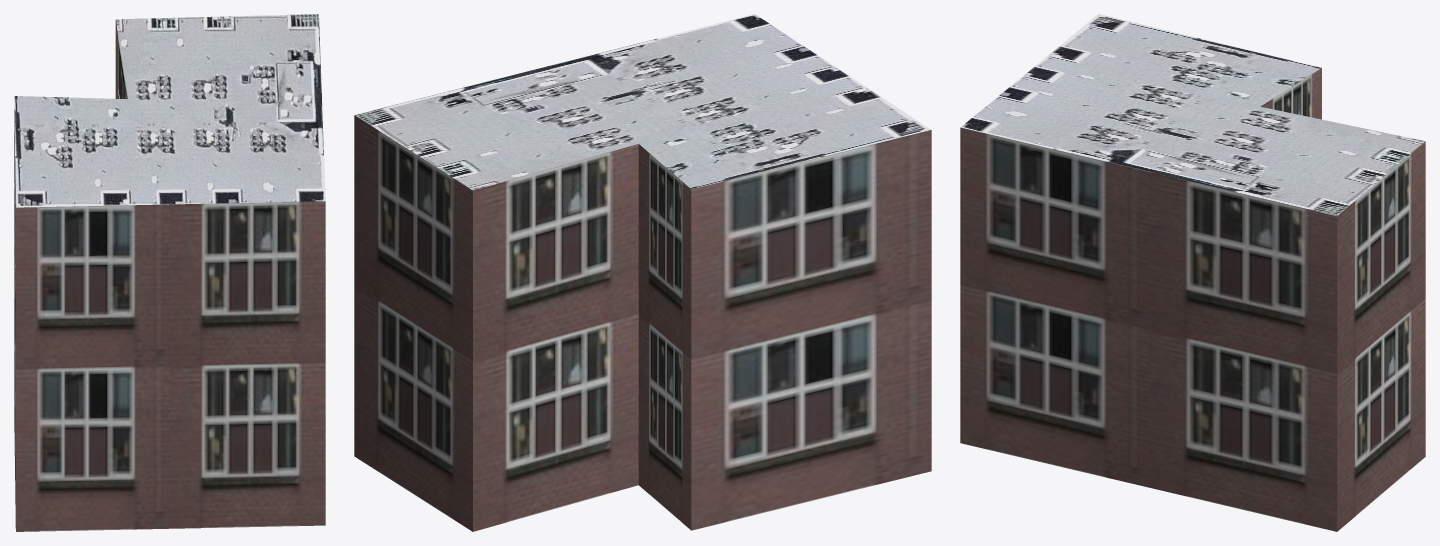
File: ResTex__1002.fbx
3 renders of one model, left to right at view 1: azimuth 30°, elevation 25°; view 2: azimuth 150°, elevation 25°; view 3: azimuth 270°, elevation 25°, orthographic. The views are drawn at different scales.
Parts seen in each view (by area): view 1: CityEngineMaterial_12_m, CityEngineMaterial_2_m; view 2: CityEngineMaterial_12_m, CityEngineMaterial_2_m; view 3: CityEngineMaterial_12_m, CityEngineMaterial_2_m.
Boxes of the visible parts, left/top/right/bottom form: CityEngineMaterial_12_m: left=14, top=21, right=325, bottom=531; CityEngineMaterial_2_m: left=14, top=14, right=325, bottom=207; CityEngineMaterial_12_m: left=354, top=115, right=931, bottom=531; CityEngineMaterial_2_m: left=354, top=14, right=930, bottom=190; CityEngineMaterial_12_m: left=960, top=68, right=1425, bottom=531; CityEngineMaterial_2_m: left=960, top=14, right=1425, bottom=215.
Size of the model in its own units: 8.24 by 6 by 8.01.
Materials: 2 (2 with a texture image).
